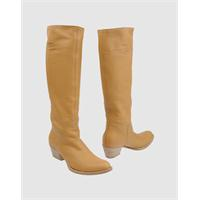shoe: (46, 24, 112, 176), (97, 28, 153, 158)
